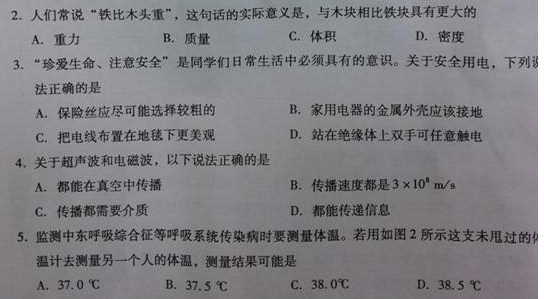text: (11, 54, 538, 73), (5, 3, 478, 22), (34, 127, 487, 146), (15, 228, 541, 244), (31, 104, 485, 121), (34, 177, 458, 194), (35, 278, 484, 294), (28, 30, 469, 46), (34, 203, 392, 219), (33, 253, 299, 270), (13, 153, 275, 169), (30, 79, 103, 94)
